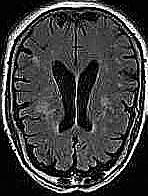Normal_Brain: (1, 1, 148, 196)
